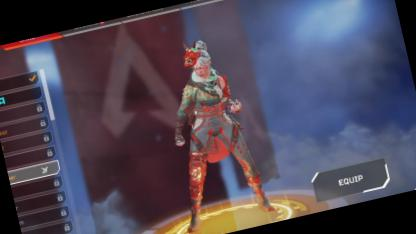Target: (174, 35, 245, 180)
